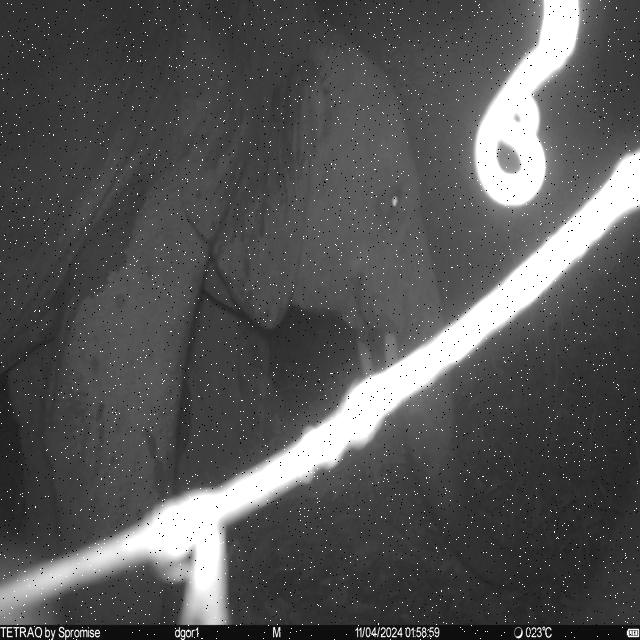ear: (178, 0, 326, 331)
elephant: (1, 2, 558, 626)
tusk: (356, 337, 374, 379), (382, 334, 400, 371)
